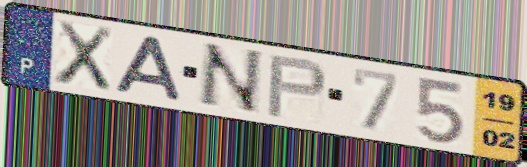5: (413, 73, 468, 146)
7: (349, 66, 401, 134)
A: (111, 32, 187, 104)
N: (193, 41, 266, 117)
P: (263, 53, 330, 121)
X: (51, 18, 116, 94)
